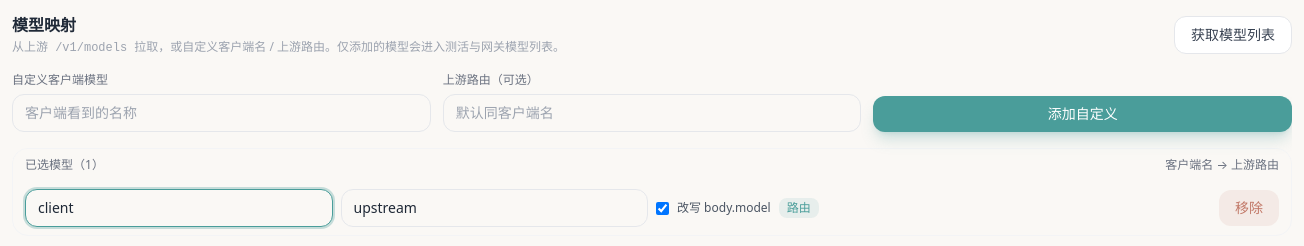
Test case: ChannelModelEditor stable editable rows › keeps focus while typing in 客户端模型
Type "-xyz" into the 1st field with placeholder "客户端模型".
click(179, 208); type("-xyz")  # box top-left (25, 189), bottom-right (332, 227)
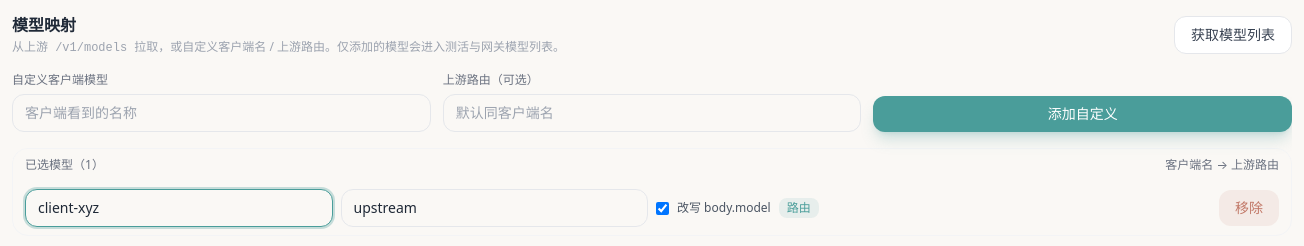
Expected: the 1st field with placeholder "客户端模型" holds "client-xyz", top-left (25, 189), bottom-right (332, 227)
